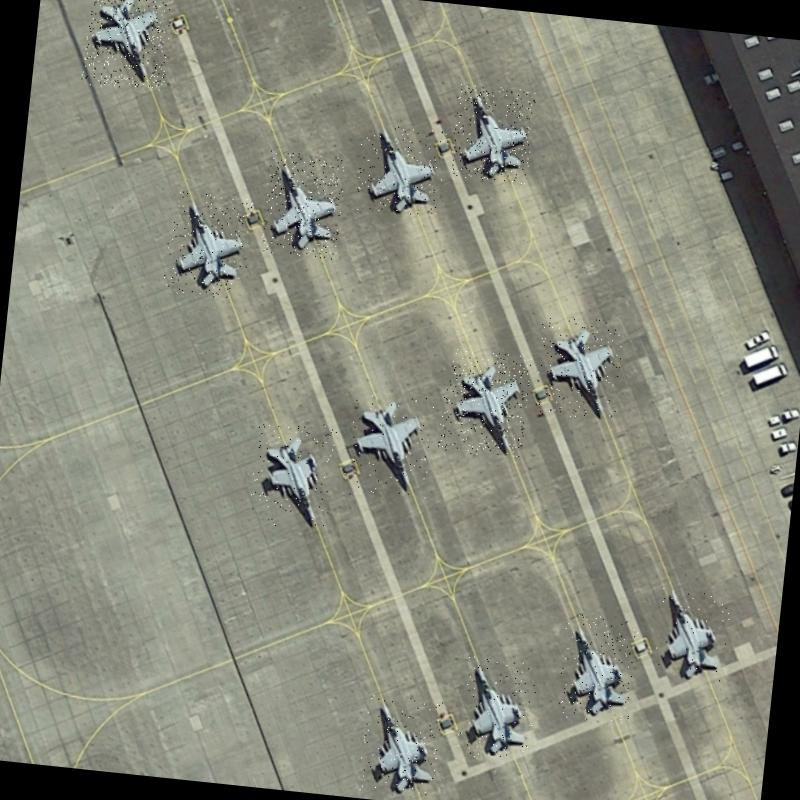A16: (342, 388, 435, 502), (437, 348, 531, 459), (247, 417, 337, 532), (162, 190, 253, 300), (532, 314, 624, 422), (554, 612, 640, 724), (260, 150, 346, 260), (357, 694, 443, 800), (354, 122, 447, 219), (449, 82, 536, 184), (456, 654, 538, 762), (80, 0, 173, 92), (652, 582, 733, 686)
